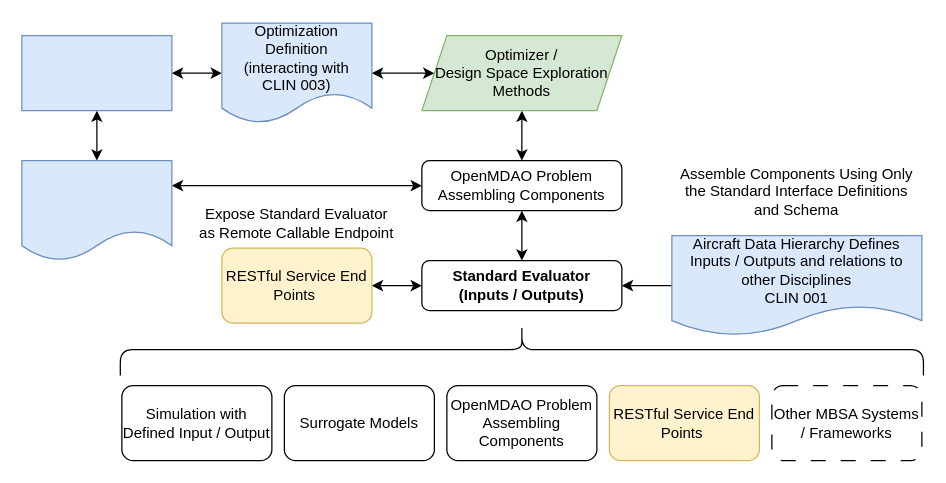
The diagram is 946 pixels wide and 483 high, and some of its shapes have lost their labels. Here are the shapes that lost their labels. From the top down, the centre of each, then its label:
At pixel 96 72: "Cameo MBSE Model CLIN 003".
At pixel 96 210: "Component Assembly Definition (interacting with CLIN 003)".
